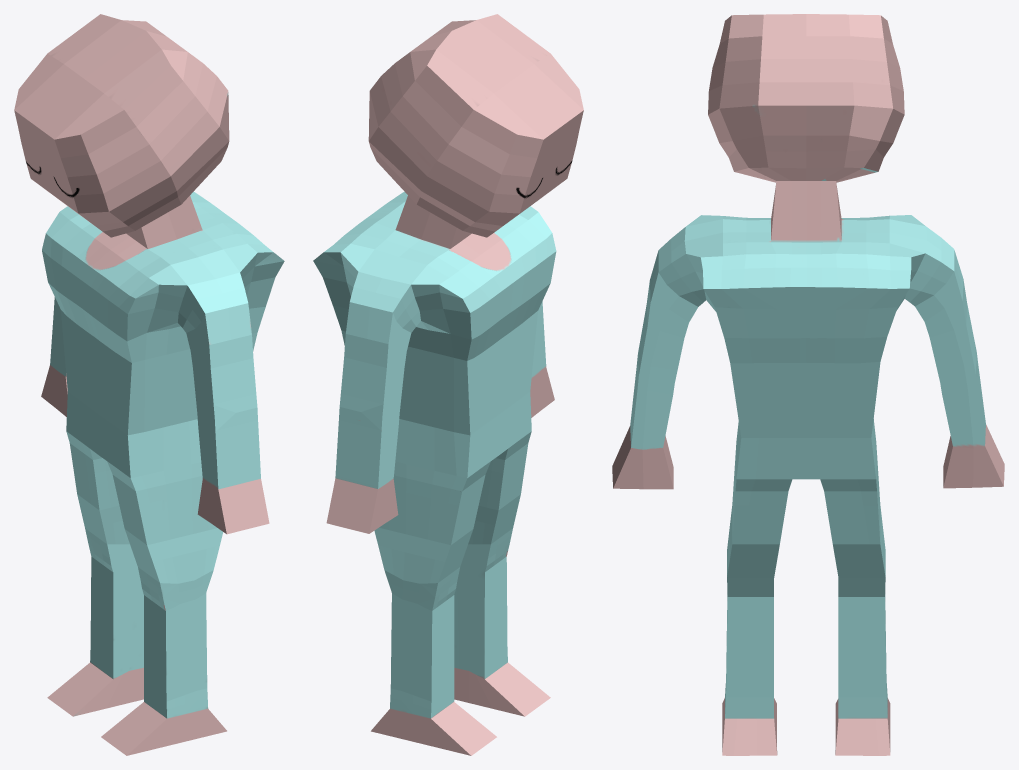
File: CamillaCharacter.fbx
3 views of the same model, side by side, from view 1: azimuth 30°, elevation 25°; view 2: azimuth 150°, elevation 25°; view 3: azimuth 270°, elevation 25° (orthographic). The views are drawn at different scales.
Visible parts, largest first — view 1: PersonajePM.001; view 2: PersonajePM.001; view 3: PersonajePM.001.
Part boxes in pixels (left/top/right/bottom): PersonajePM.001: left=14, top=14, right=284, bottom=755; PersonajePM.001: left=313, top=14, right=583, bottom=755; PersonajePM.001: left=612, top=14, right=1004, bottom=755.
Bounding box in the file's own units: 51.16 × 165 × 81.46.
